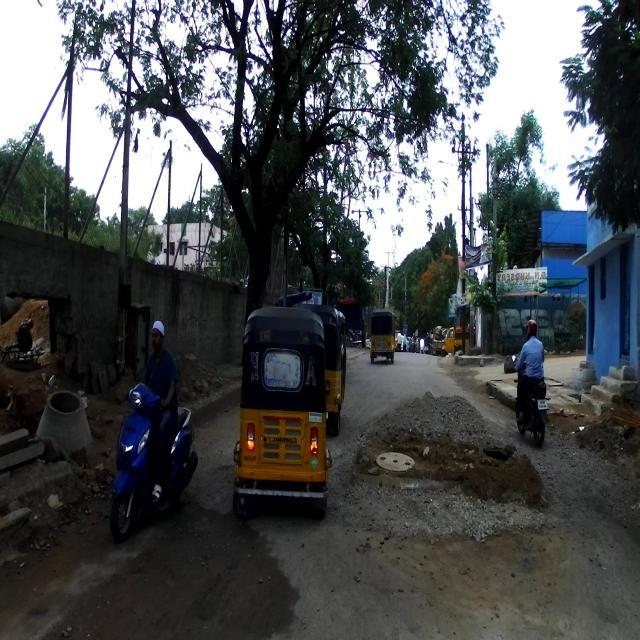Pothole: (9, 499, 310, 638), (341, 385, 579, 548)
Sewer Cover: (371, 444, 424, 481)
